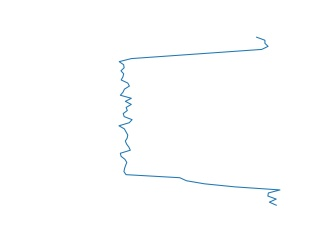distributaryChannelFill: (113, 37, 285, 206)
